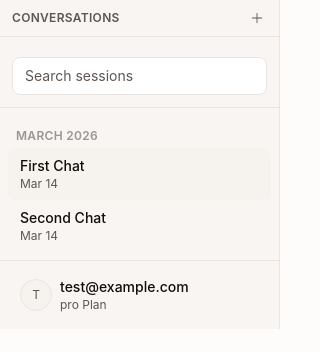
Scenario: SessionSidebar › pressing Escape during rename cancels edit
Hover over the element with test id "session-item-session-1" at (140, 174), box [8,148,271,200]
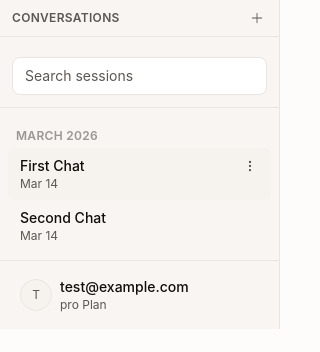
Click the button with test id "session-menu-trigger" at (250, 166), box [241,157,259,175]
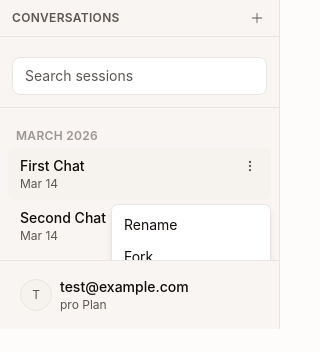
Click the button "Rename" at (151, 224), box [124,216,178,233]
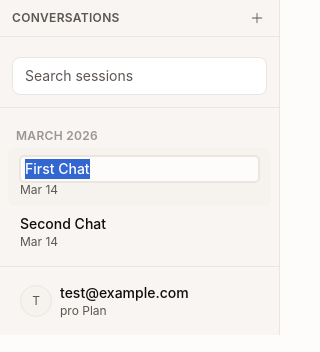
Replace the text in the field showing "First Chat" with "Changed" at (140, 169), box [20,156,259,182]
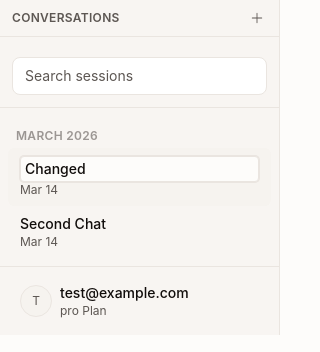
Press Escape
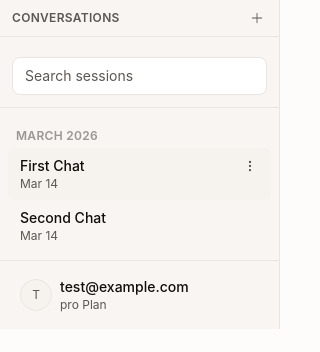
Expected: the text "First Chat" is shown, [20,157,85,174]
